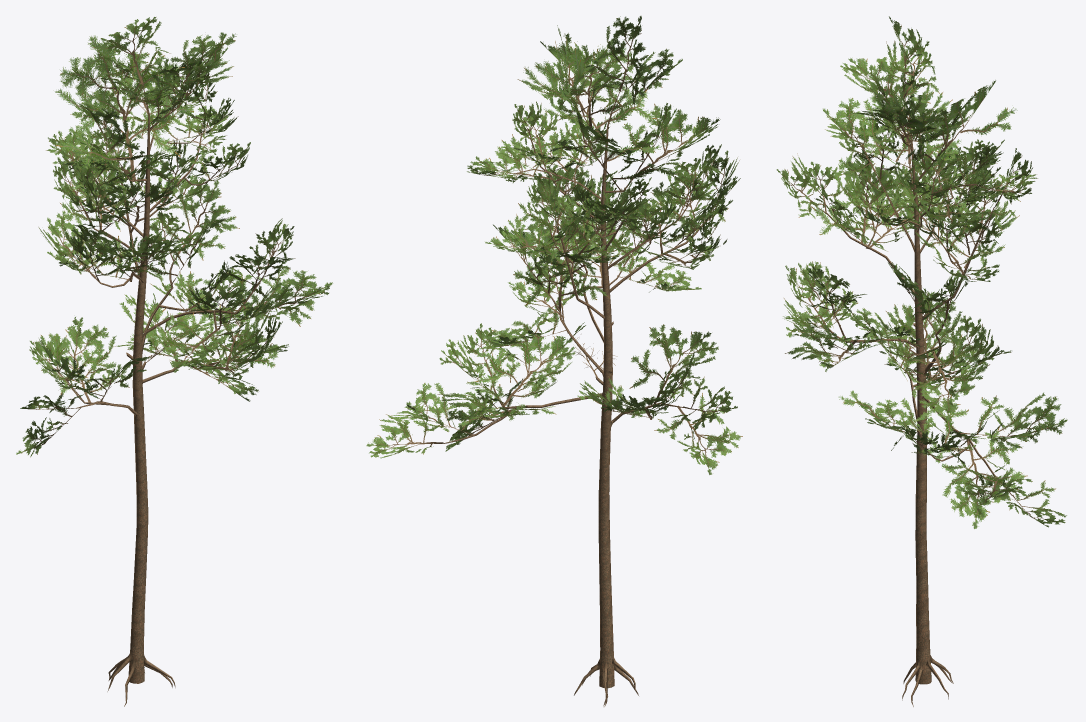
3 views of the same model, side by side, from view 1: azimuth 30°, elevation 25°; view 2: azimuth 150°, elevation 25°; view 3: azimuth 270°, elevation 25° (orthographic). The views are drawn at different scales.
Visible parts, largest first — view 1: Pine_medium_1_LOD1_Bark_Mat_0; view 2: Pine_medium_1_LOD1_Bark_Mat_0; view 3: Pine_medium_1_LOD1_Bark_Mat_0.
Part boxes in pixels (<box>): Pine_medium_1_LOD1_Bark_Mat_0: <box>16,17,332,706</box>; Pine_medium_1_LOD1_Bark_Mat_0: <box>366,16,742,706</box>; Pine_medium_1_LOD1_Bark_Mat_0: <box>776,16,1067,706</box>.
Bounding box in the file's own units: 6.63 × 13.92 × 5.57.
